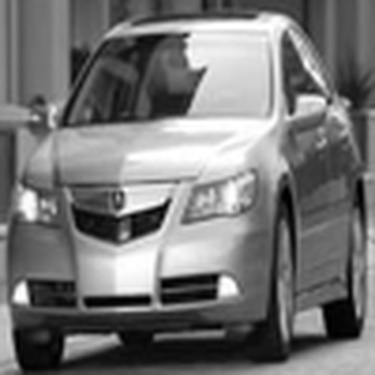car: (2, 4, 369, 372)
